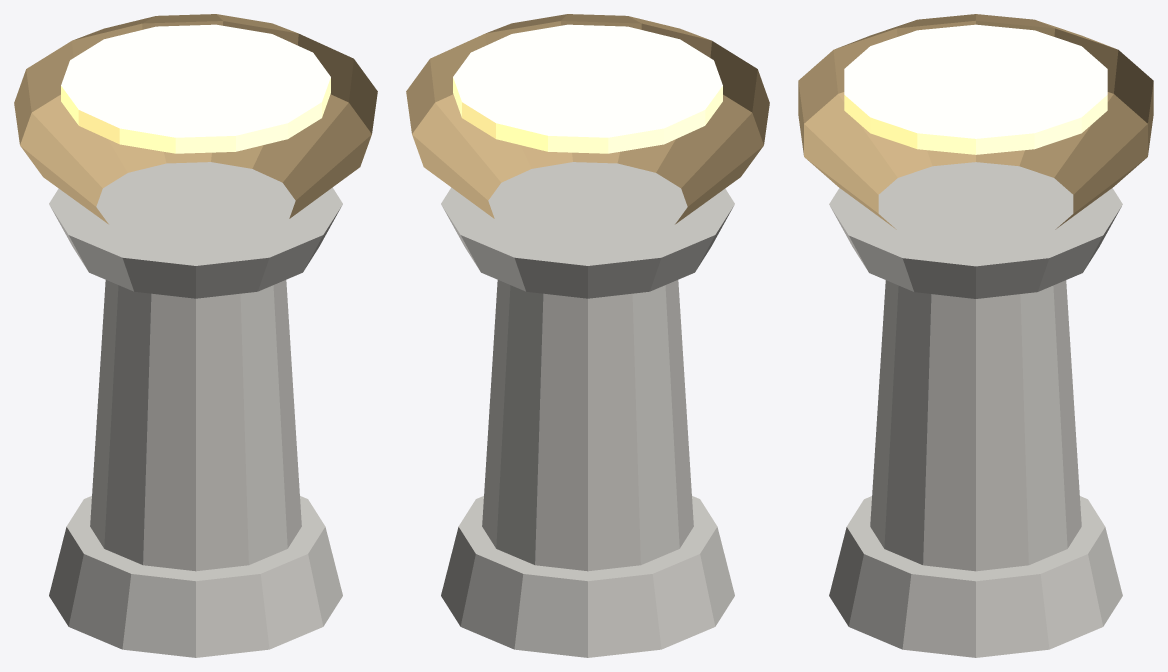
The model's file is mythic-underworld-and-olympus-offering-tripod-62b4881e__21393.glb.
The picture shows the model from 3 angles, left to right: view 1: azimuth 30°, elevation 25°; view 2: azimuth 150°, elevation 25°; view 3: azimuth 270°, elevation 25°; orthographic projection.
Parts seen in each view (by area): view 1: offering-tripod; view 2: offering-tripod; view 3: offering-tripod.
Part boxes in pixels (box(x1,y1,x2,y2)): offering-tripod: box(14, 14, 377, 657); offering-tripod: box(406, 14, 769, 657); offering-tripod: box(798, 14, 1153, 657).
Size of the model in its own units: 1.24 by 1.97 by 1.21.
